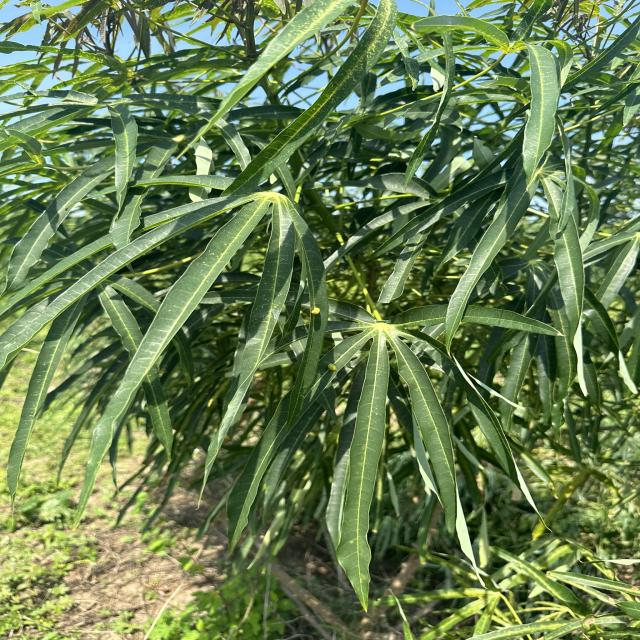Mosca: (403, 488, 431, 515), (308, 297, 331, 323), (311, 353, 334, 375)
